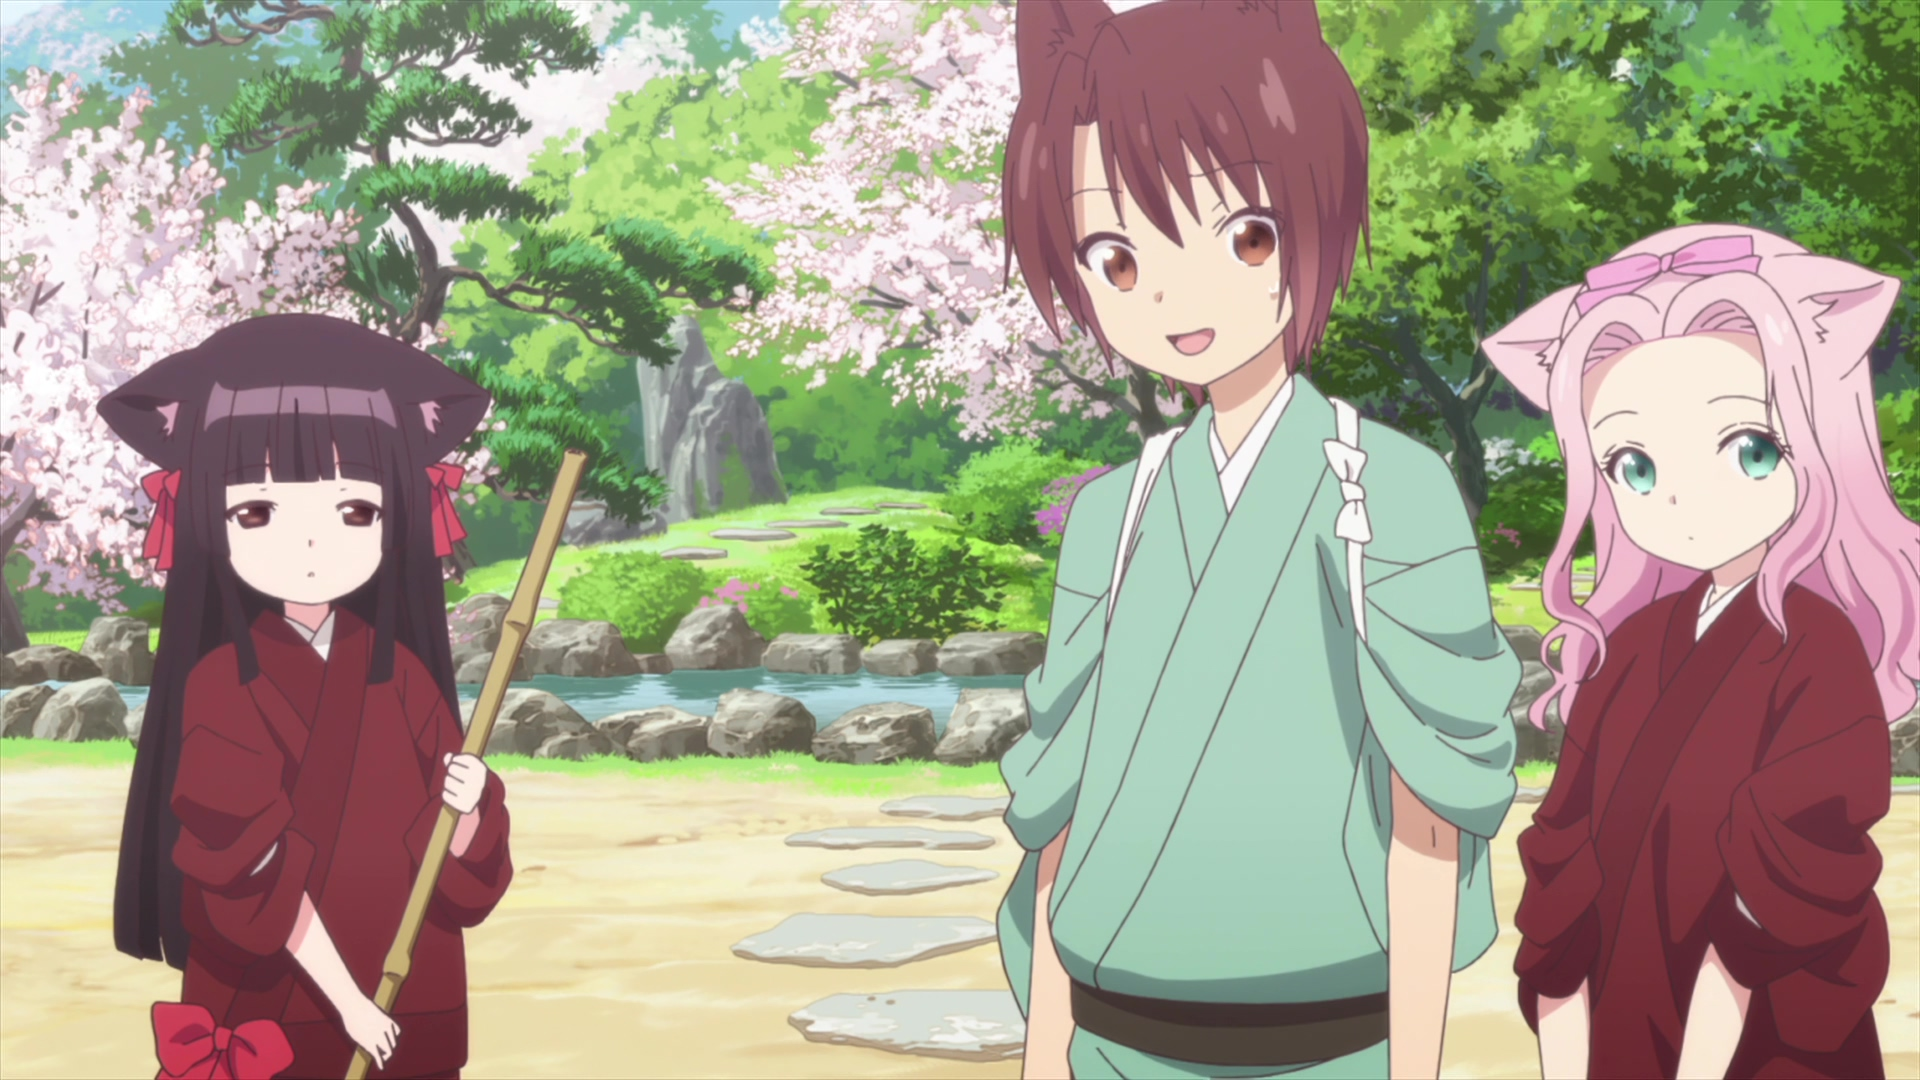枣: (997, 1, 1519, 1080)
樱: (96, 313, 588, 1080)
莲: (1478, 224, 1920, 1080)
